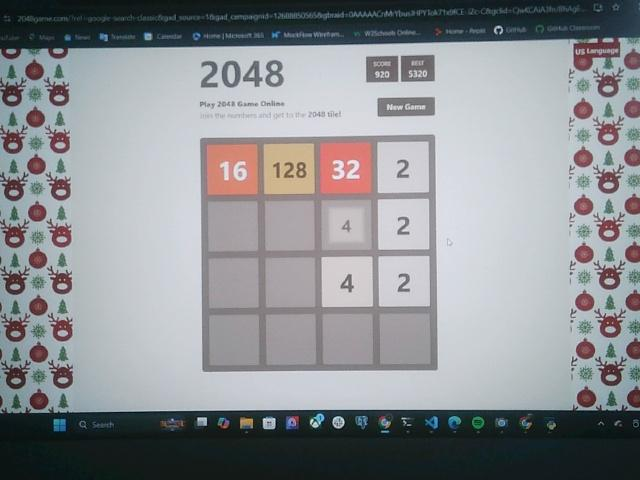board: (202, 138, 436, 370)
tile: (319, 143, 372, 195), (264, 143, 315, 195), (378, 199, 429, 251), (322, 256, 373, 308), (207, 144, 258, 195), (378, 143, 429, 193), (380, 256, 430, 307)
